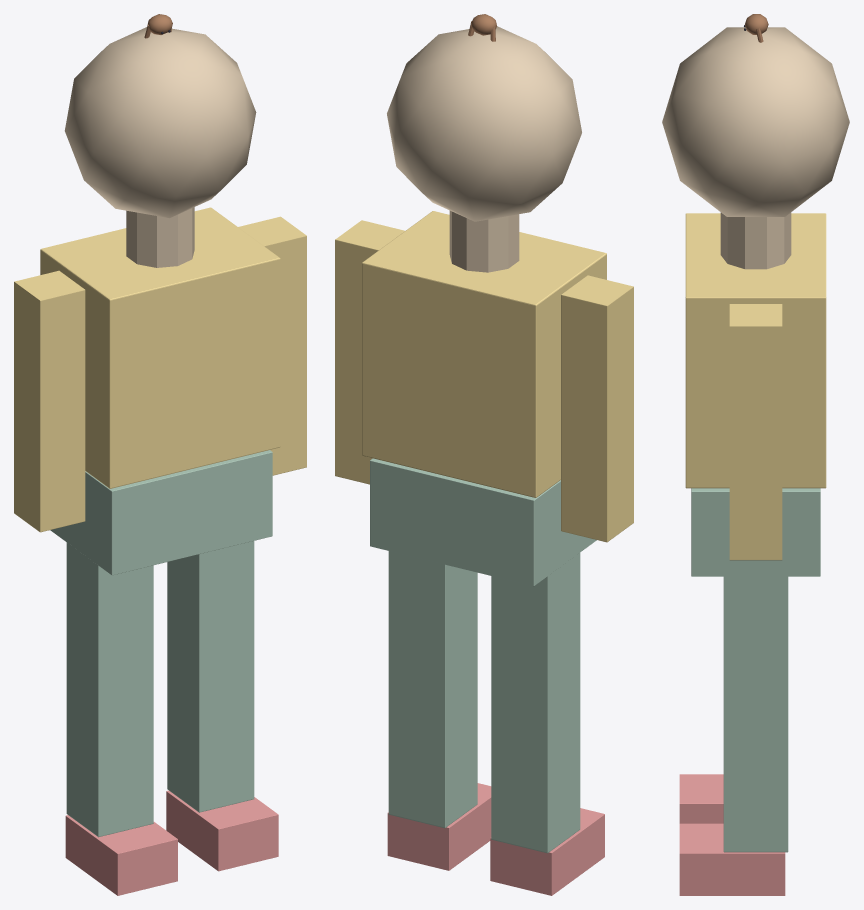
Rendered from lotte-junior.glb.
3 views of the same model, side by side, from view 1: azimuth 30°, elevation 25°; view 2: azimuth 150°, elevation 25°; view 3: azimuth 270°, elevation 25° (orthographic). The views are drawn at different scales.
Parts seen in each view (by area): view 1: lotte-junior_Body, lotte-junior_Head, lotte-junior_LeftLeg, lotte-junior_RightLeg, lotte-junior_LeftArm, lotte-junior_Hips, lotte-junior_RightArm, lotte-junior_LeftShoe, lotte-junior_RightShoe, lotte-junior_Neck; view 2: lotte-junior_Body, lotte-junior_Head, lotte-junior_LeftLeg, lotte-junior_RightLeg, lotte-junior_LeftArm, lotte-junior_Hips, lotte-junior_RightArm, lotte-junior_LeftShoe, lotte-junior_RightShoe, lotte-junior_Neck; view 3: lotte-junior_Head, lotte-junior_Body, lotte-junior_RightLeg, lotte-junior_RightArm, lotte-junior_Hips, lotte-junior_RightShoe, lotte-junior_Neck, lotte-junior_LeftShoe.
Part boxes in pixels (x1=…): lotte-junior_Body: x1=40, y1=207, x2=280, y2=488; lotte-junior_Head: x1=64, y1=27, x2=256, y2=218; lotte-junior_LeftLeg: x1=66, y1=542, x2=153, y2=837; lotte-junior_RightLeg: x1=167, y1=541, x2=254, y2=812; lotte-junior_LeftArm: x1=14, y1=270, x2=85, y2=532; lotte-junior_Hips: x1=50, y1=450, x2=272, y2=575; lotte-junior_RightArm: x1=238, y1=216, x2=306, y2=475; lotte-junior_LeftShoe: x1=65, y1=815, x2=177, y2=895; lotte-junior_RightShoe: x1=166, y1=790, x2=278, y2=871; lotte-junior_Neck: x1=126, y1=207, x2=194, y2=267; lotte-junior_Body: x1=362, y1=211, x2=606, y2=497; lotte-junior_Head: x1=387, y1=26, x2=581, y2=221; lotte-junior_LeftLeg: x1=491, y1=553, x2=580, y2=853; lotte-junior_RightLeg: x1=388, y1=551, x2=477, y2=828; lotte-junior_LeftArm: x1=561, y1=275, x2=633, y2=542; lotte-junior_Hips: x1=370, y1=458, x2=596, y2=586; lotte-junior_RightArm: x1=335, y1=220, x2=404, y2=484; lotte-junior_LeftShoe: x1=490, y1=808, x2=604, y2=895; lotte-junior_RightShoe: x1=387, y1=783, x2=491, y2=870; lotte-junior_Neck: x1=449, y1=210, x2=519, y2=272; lotte-junior_Head: x1=662, y1=27, x2=849, y2=216; lotte-junior_Body: x1=685, y1=213, x2=826, y2=488; lotte-junior_RightLeg: x1=723, y1=576, x2=788, y2=852; lotte-junior_RightArm: x1=729, y1=304, x2=782, y2=560; lotte-junior_Hips: x1=691, y1=488, x2=820, y2=576; lotte-junior_RightShoe: x1=679, y1=823, x2=785, y2=895; lotte-junior_Neck: x1=720, y1=212, x2=791, y2=269; lotte-junior_LeftShoe: x1=679, y1=774, x2=723, y2=823.
Bounding box in the file's own units: 0.3975 × 1.19 × 0.24.
